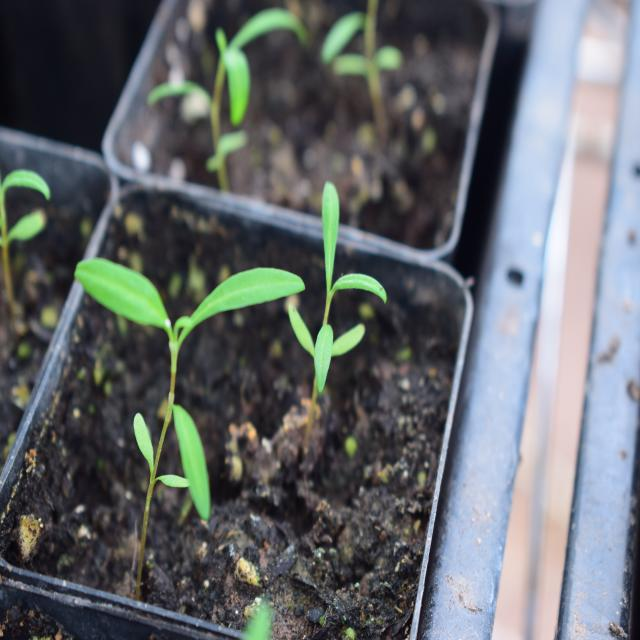white_smart_weed: (90, 213, 274, 509), (264, 163, 404, 387)
